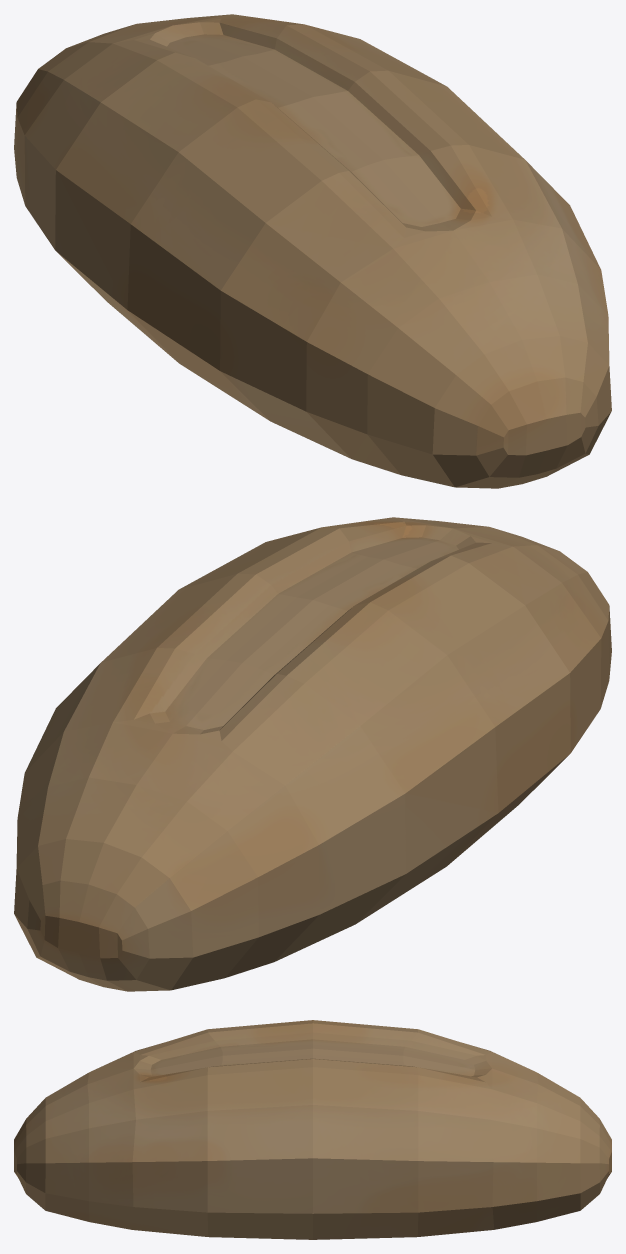
Rendered from breadprojectile.fbx.
3 renders of one model, top to bottom at view 1: azimuth 30°, elevation 25°; view 2: azimuth 150°, elevation 25°; view 3: azimuth 270°, elevation 25°, orthographic. The views are drawn at different scales.
Visible parts, largest first — view 1: Cylinder; view 2: Cylinder; view 3: Cylinder.
Part boxes in pixels (left/top/right/bottom): Cylinder: left=14, top=14, right=611, bottom=488; Cylinder: left=14, top=517, right=611, bottom=991; Cylinder: left=14, top=1020, right=611, bottom=1239.
Bounding box in the file's own units: 238 × 164 × 521.
